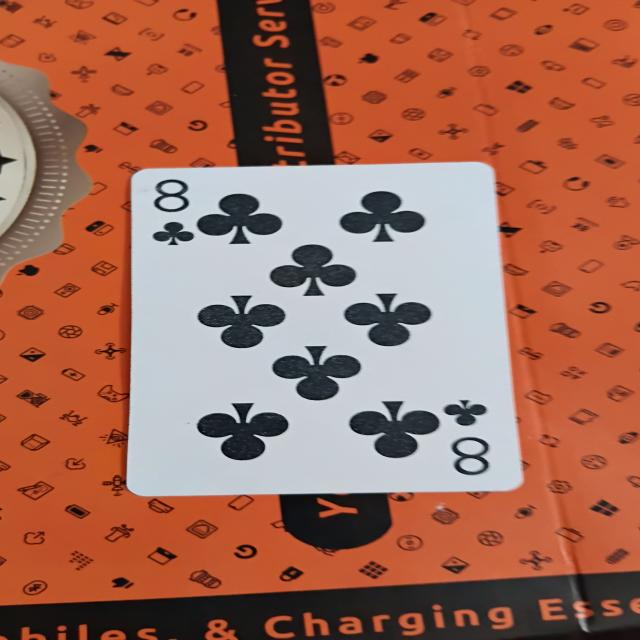8C: (120, 164, 526, 490)
